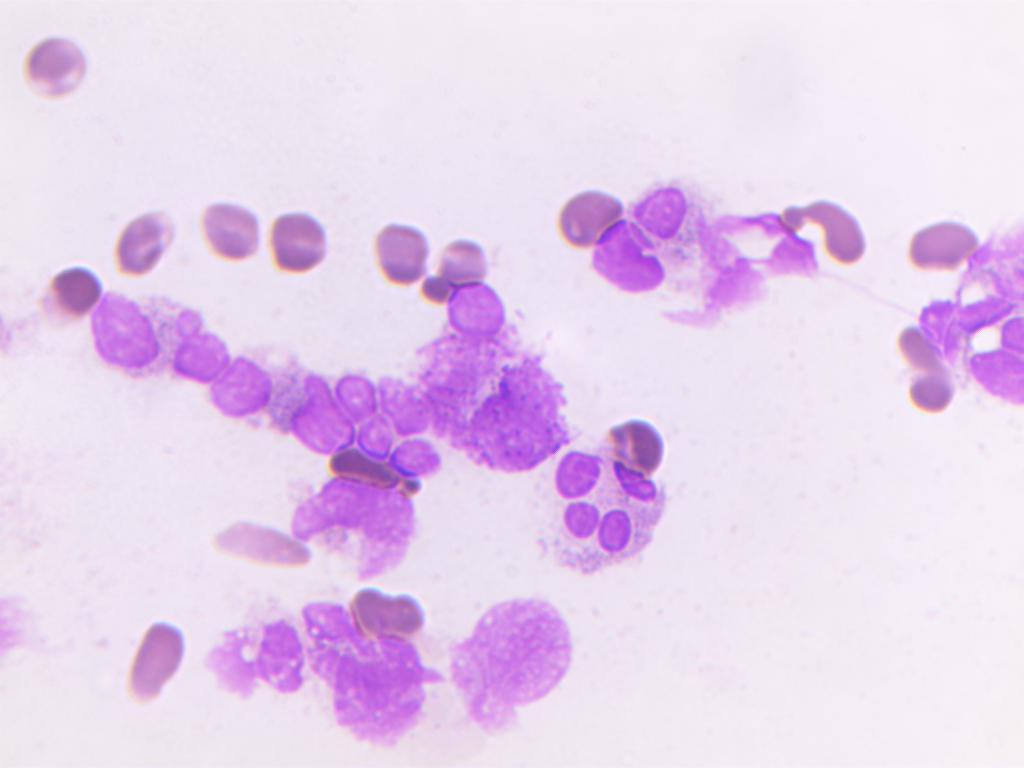artifact: (323, 446, 401, 494)
epithelial: (452, 587, 579, 731), (956, 292, 1024, 429), (584, 212, 666, 304), (88, 287, 160, 379), (376, 433, 471, 481), (438, 281, 507, 329), (635, 186, 687, 237)
erythrocyte: (773, 185, 877, 270), (112, 605, 191, 705), (885, 316, 958, 421), (10, 27, 98, 105), (583, 408, 680, 478), (98, 205, 184, 283), (210, 514, 319, 574), (540, 177, 627, 250), (903, 213, 986, 287), (196, 191, 270, 272), (269, 199, 340, 277), (343, 587, 440, 639), (368, 215, 430, 289), (434, 235, 502, 292), (36, 266, 103, 317), (406, 278, 461, 316)
mast_cell: (448, 358, 583, 480)
neutrophil: (529, 446, 672, 570), (158, 300, 257, 387), (275, 355, 354, 461), (333, 349, 399, 458), (203, 347, 288, 423)
